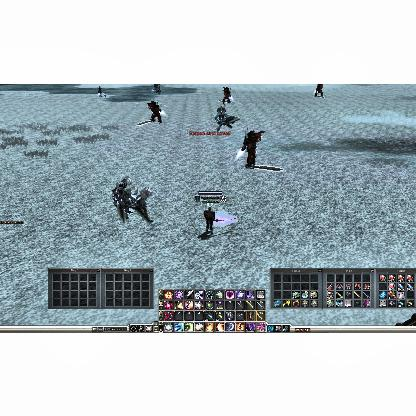caliana: (136, 186, 154, 222), (119, 186, 136, 220), (113, 176, 132, 204), (97, 85, 107, 97)
